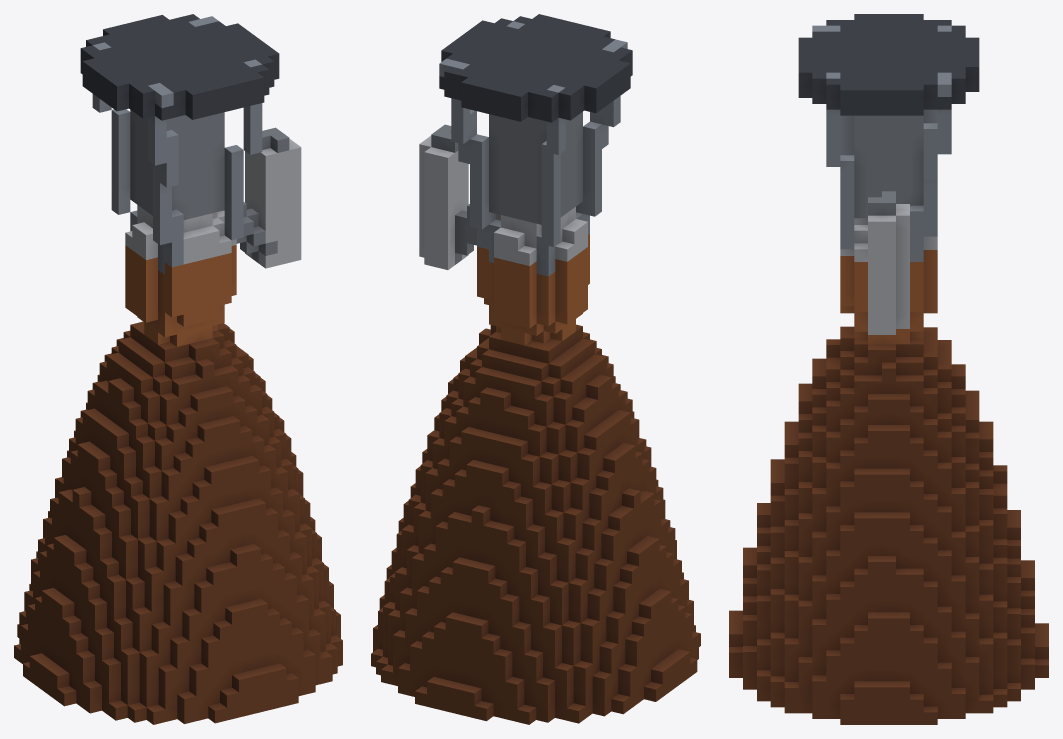
Rendered from eng_omega.glb.
3 views of the same model, side by side, from view 1: azimuth 30°, elevation 25°; view 2: azimuth 150°, elevation 25°; view 3: azimuth 270°, elevation 25° (orthographic).
Parts seen in each view (by area): view 1: eng_omega; view 2: eng_omega; view 3: eng_omega.
Boxes of the visible parts, bbox=[...] form: eng_omega: bbox=[14, 14, 342, 724]; eng_omega: bbox=[371, 14, 700, 724]; eng_omega: bbox=[729, 14, 1048, 724].
Bounding box in the file's own units: 1.15 × 2.4 × 1.15.
